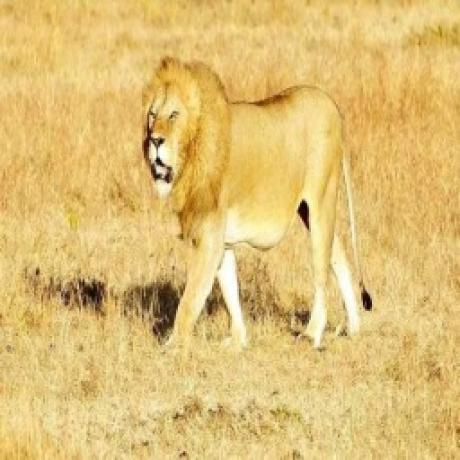Lion: (140, 55, 378, 341)
